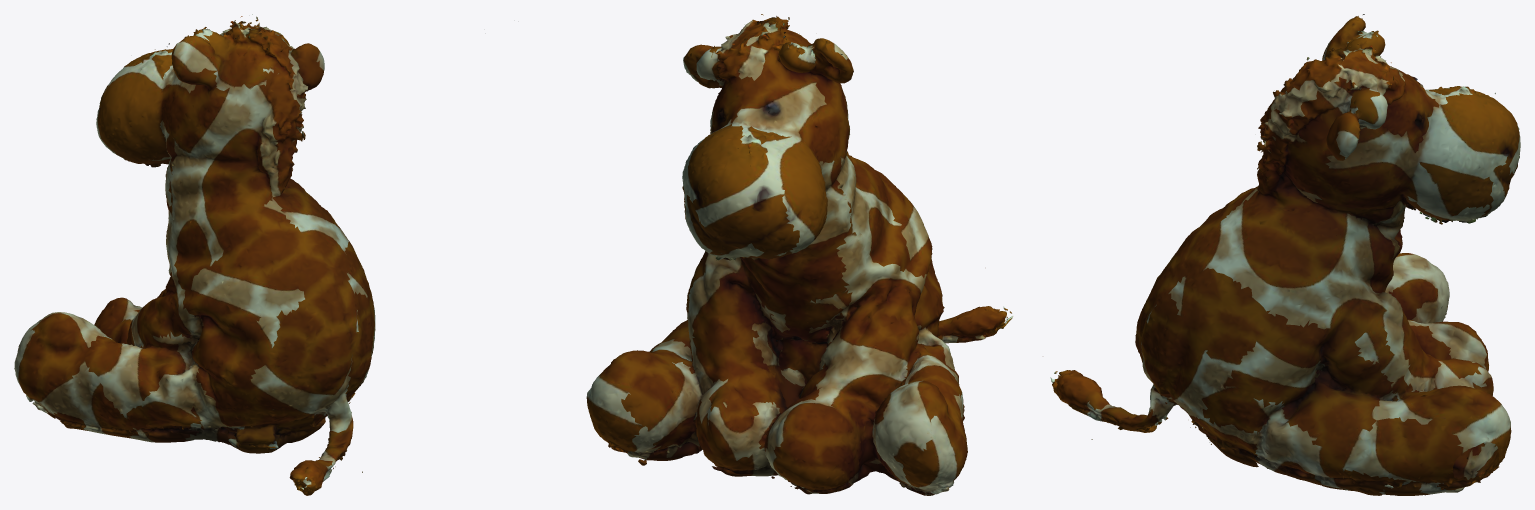
Rendered from giraffe.gltf.
The picture shows the model from 3 angles, left to right: view 1: azimuth 30°, elevation 25°; view 2: azimuth 150°, elevation 25°; view 3: azimuth 270°, elevation 25°; orthographic projection. The views are drawn at different scales.
Parts seen in each view (by area): view 1: Model; view 2: Model; view 3: Model.
Boxes of the visible parts, bbox=[...] form: Model: bbox=[14, 14, 375, 495]; Model: bbox=[586, 14, 1012, 495]; Model: bbox=[1050, 14, 1520, 495].
Bounding box in the file's own units: 3.73 × 3.15 × 3.27.
Materials: 1 (1 with a texture image).
